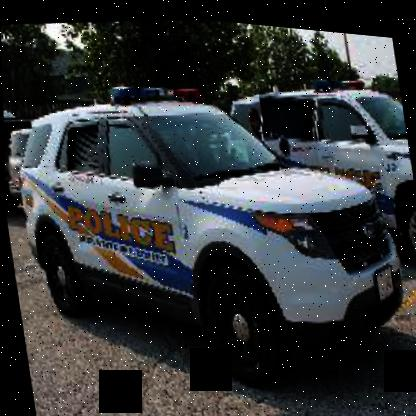emergency: (0, 36, 415, 399), (218, 57, 415, 293)
